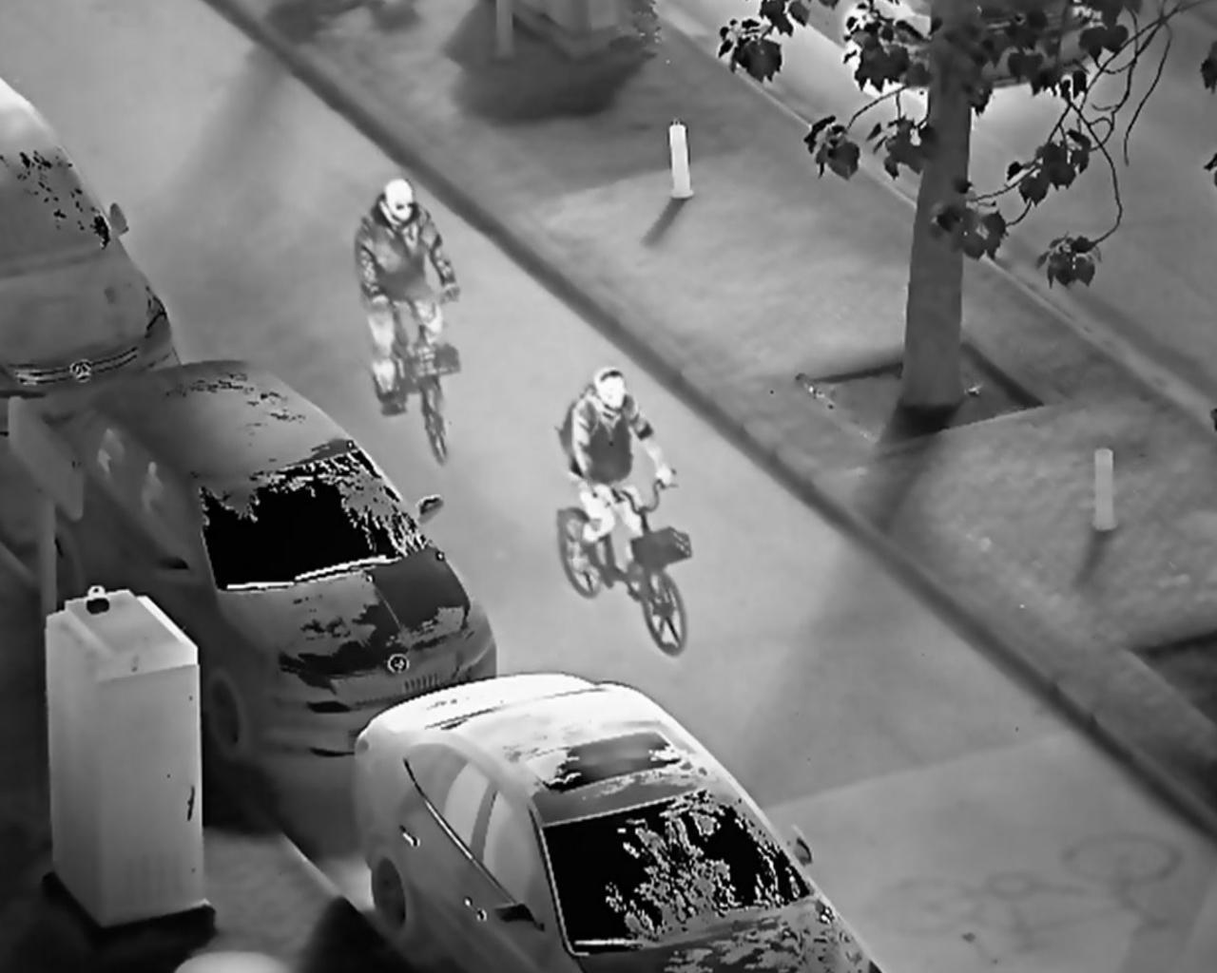person: (555, 367, 677, 589), (351, 178, 458, 413)
